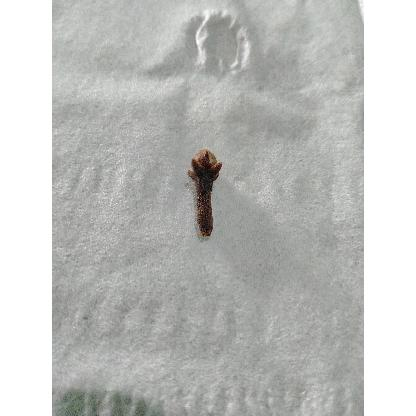baik: (189, 150, 222, 239)
